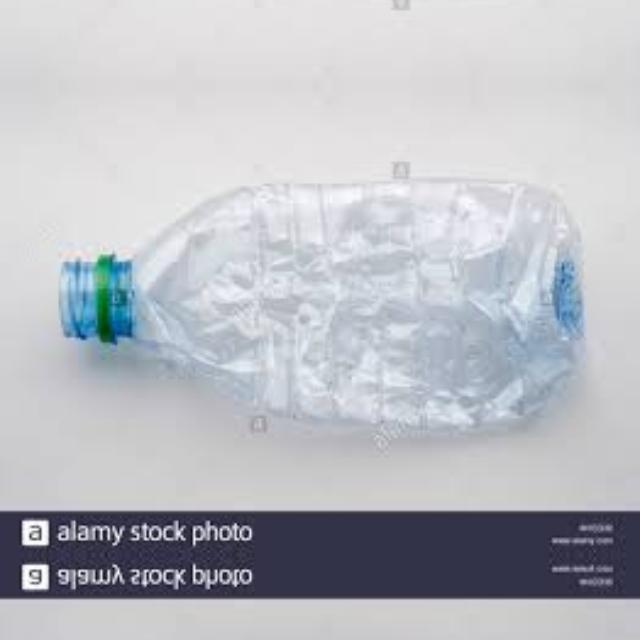Plastic: (52, 118, 594, 424), (52, 0, 593, 52)
